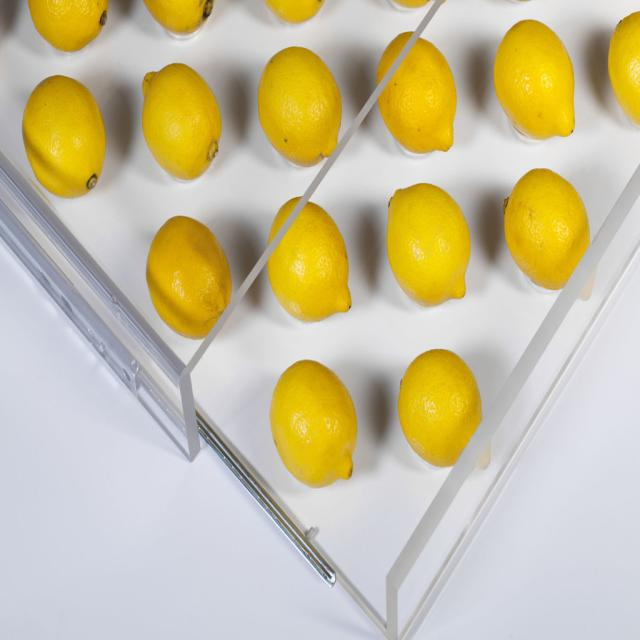Lemon: (501, 166, 591, 293), (269, 358, 358, 486), (147, 217, 233, 343), (386, 186, 474, 307), (258, 43, 341, 171), (22, 74, 106, 200), (268, 194, 349, 324), (377, 34, 457, 155), (492, 20, 574, 136), (144, 61, 222, 182), (400, 348, 479, 467), (27, 0, 108, 54), (607, 16, 640, 130), (144, 0, 211, 41), (264, 0, 322, 28), (394, 0, 432, 11)
